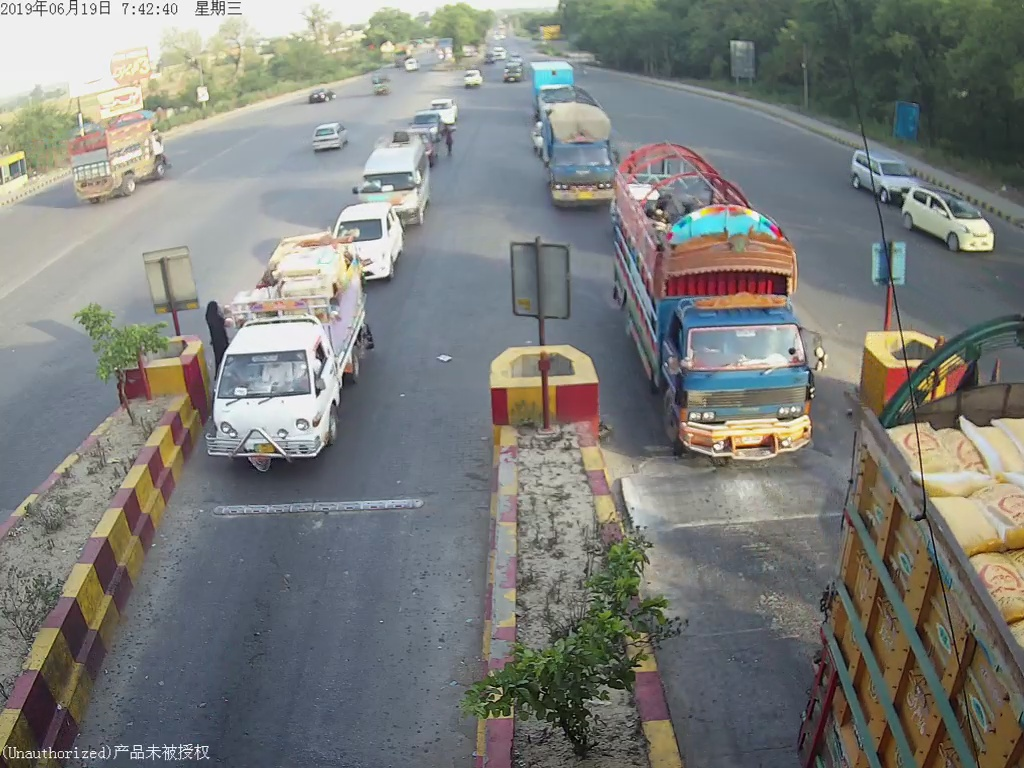Cat-2: (617, 151, 833, 481), (214, 242, 375, 459)
Cat-4: (536, 105, 611, 212)
